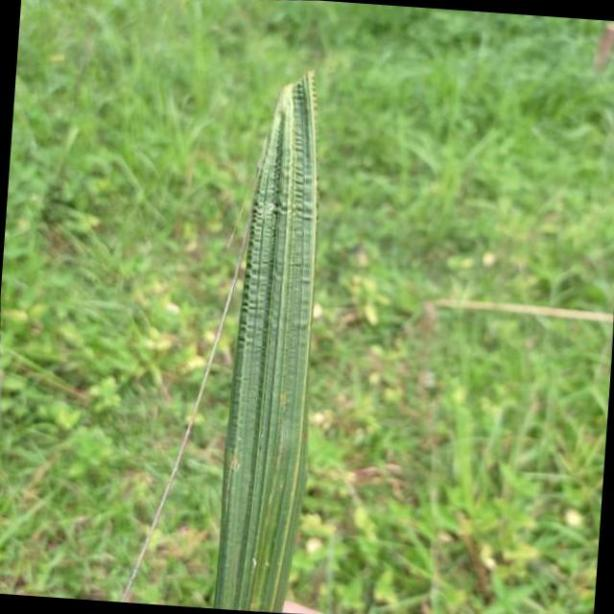Boron: (203, 53, 321, 614)
